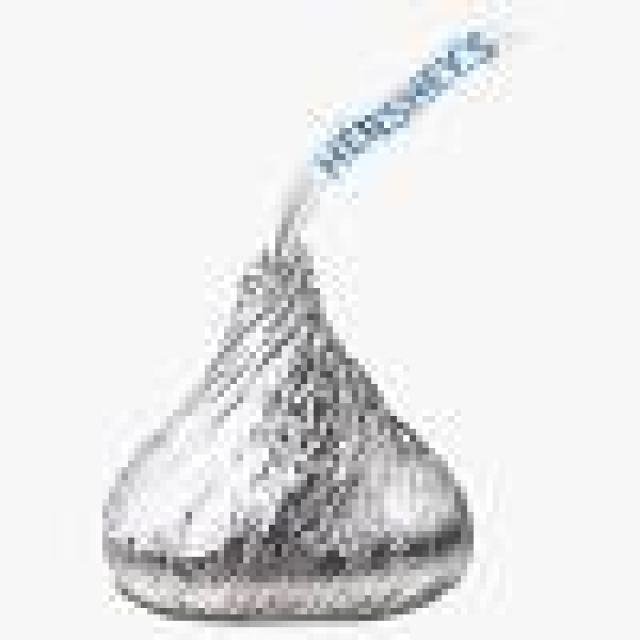kisses: (96, 19, 519, 631)
